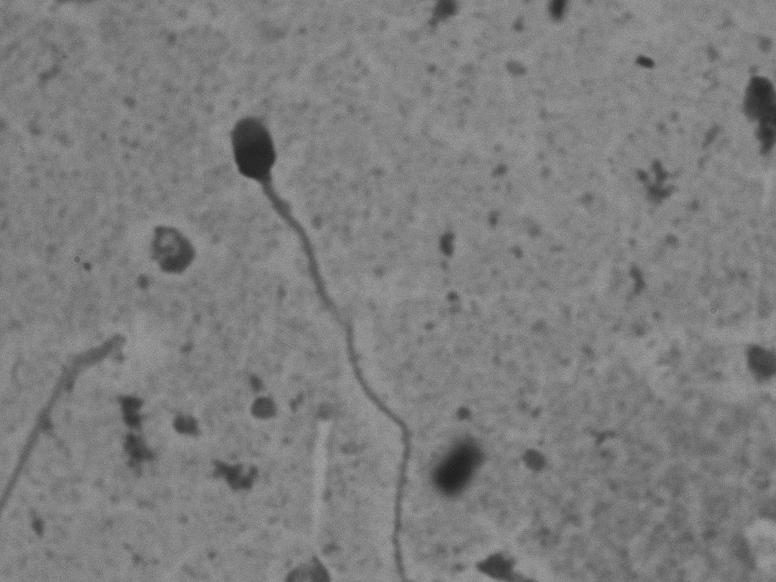Normal: (213, 102, 443, 569)
